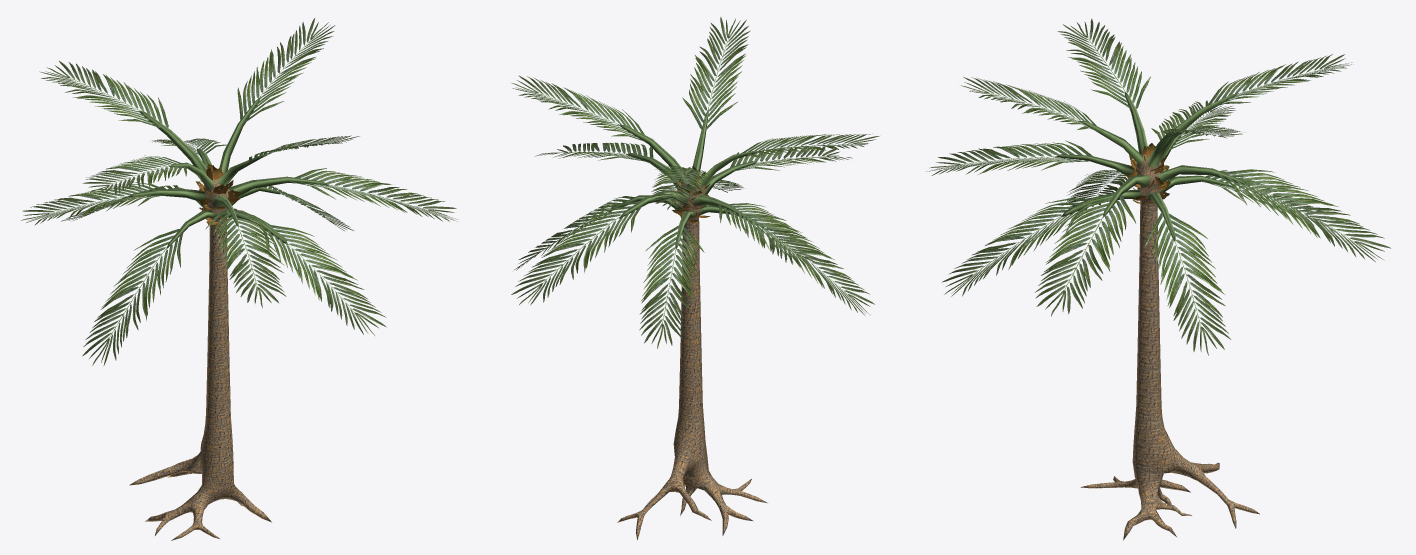
Rendered from Tree10.fbx.
3 renders of one model, left to right at view 1: azimuth 30°, elevation 25°; view 2: azimuth 150°, elevation 25°; view 3: azimuth 270°, elevation 25°, orthographic. The views are drawn at different scales.
Parts seen in each view (by area): view 1: tree10; view 2: tree10; view 3: tree10.
Part boxes in pixels (left/top/right/bottom): tree10: left=21, top=18, right=457, bottom=540; tree10: left=511, top=17, right=879, bottom=539; tree10: left=926, top=18, right=1390, bottom=540.
Size of the model in its own units: 904 by 993 by 949.
